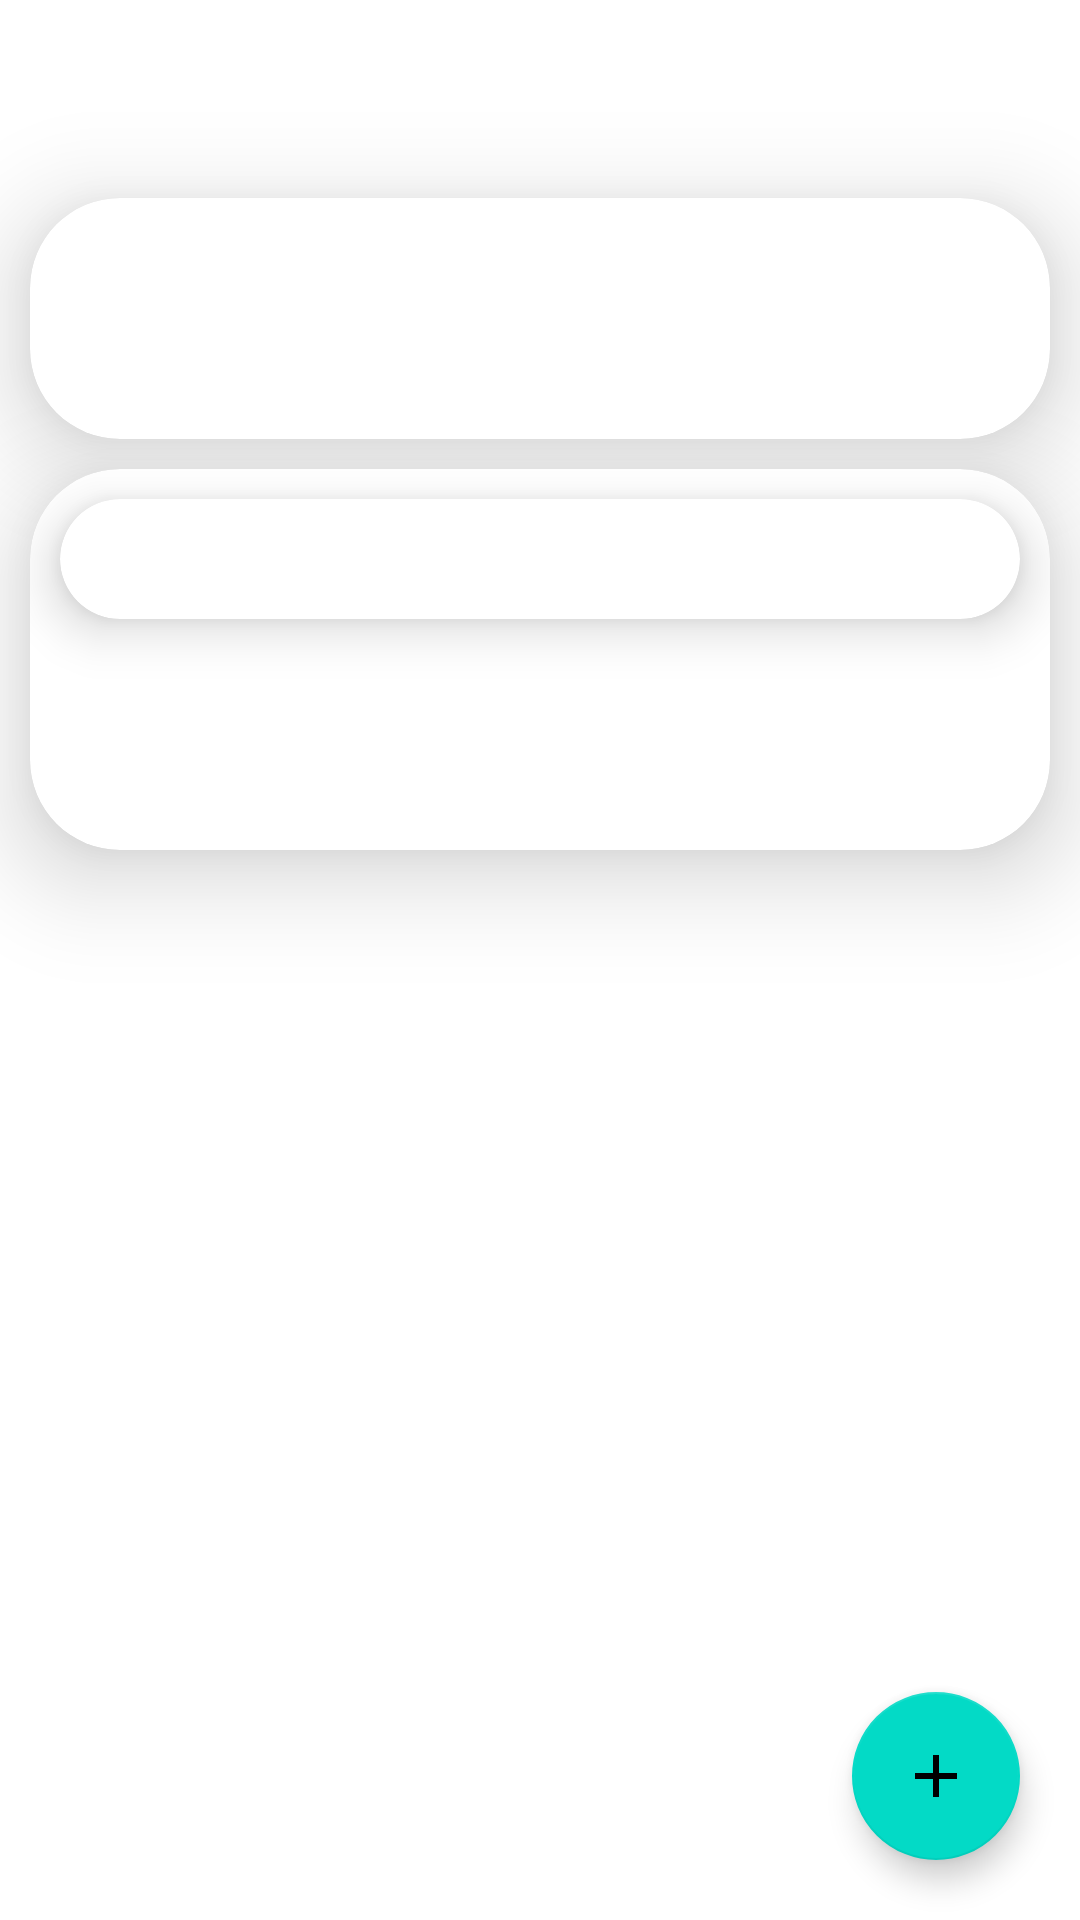

Screen size 1080px×1920px. Icon name, then its box in pixels as box(x1, y1, x2, y2):
add product: box(852, 1692, 1020, 1860)
